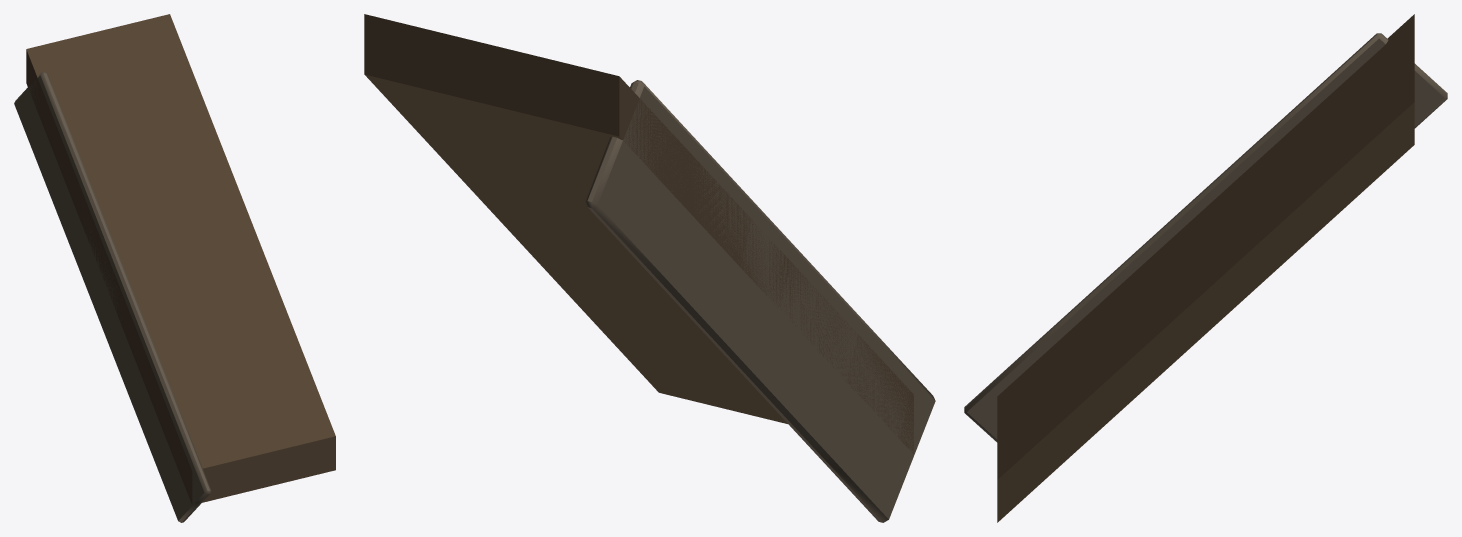
File: dach_ortgang_1m_l.glb
3 renders of one model, left to right at view 1: azimuth 30°, elevation 25°; view 2: azimuth 150°, elevation 25°; view 3: azimuth 270°, elevation 25°, orthographic. The views are drawn at different scales.
Visible parts, largest first — view 1: dach_ortgang_1m_l; view 2: dach_ortgang_1m_l; view 3: dach_ortgang_1m_l.
Part boxes in pixels (x1,y1,x2,y2): dach_ortgang_1m_l: (14,14,335,522); dach_ortgang_1m_l: (364,14,935,522); dach_ortgang_1m_l: (964,14,1447,522).
Bounding box in the file's own units: 0.5 × 1.21 × 1.16.
